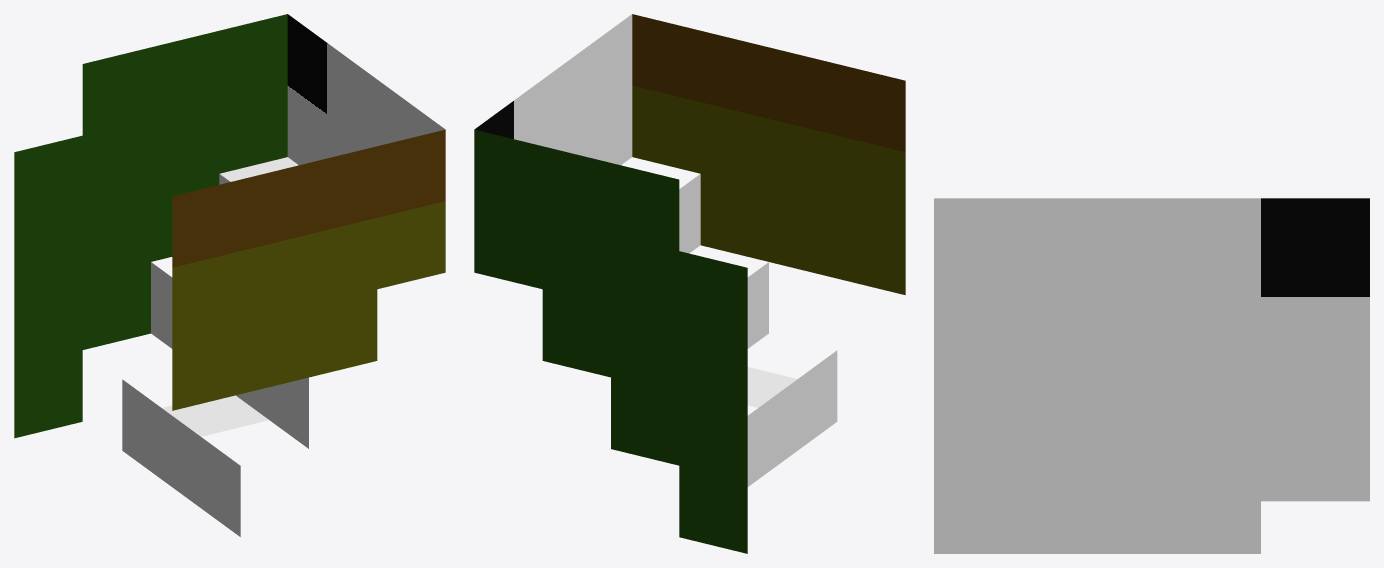
File: block_19.fbx
3 views of the same model, side by side, from view 1: azimuth 30°, elevation 25°; view 2: azimuth 150°, elevation 25°; view 3: azimuth 270°, elevation 25° (orthographic). The views are drawn at different scales.
Parts seen in each view (by area): view 1: box; view 2: box; view 3: box.
Part boxes in pixels (x1,y1,x2,y2): box: (14,14,445,536); box: (474,14,905,553); box: (934,198,1369,553).
Size of the model in its own units: 4 by 4 by 5.
Materials: 1 (1 with a texture image).
